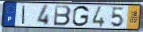4: (91, 5, 106, 28), (36, 4, 51, 27)
5: (110, 6, 126, 28)
B: (53, 5, 73, 27)
G: (72, 5, 91, 28)
I: (21, 4, 26, 25)
